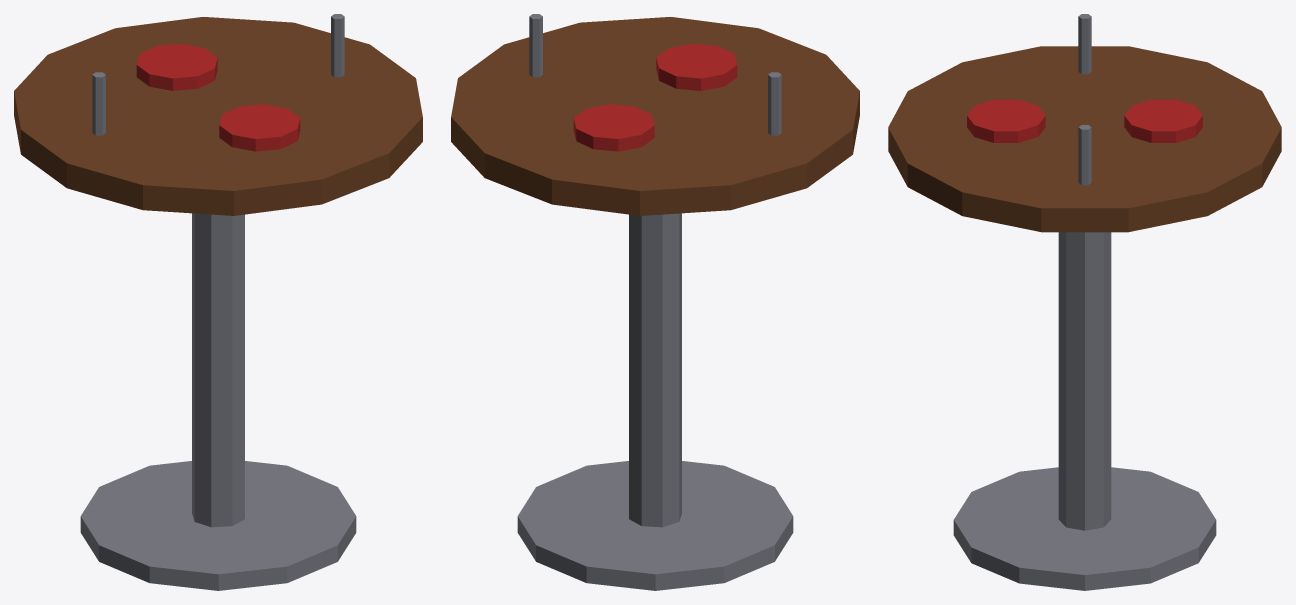
Rendered from arm_table.glb.
The picture shows the model from 3 angles, left to right: view 1: azimuth 30°, elevation 25°; view 2: azimuth 150°, elevation 25°; view 3: azimuth 270°, elevation 25°; orthographic projection. The views are drawn at different scales.
Parts seen in each view (by area): view 1: top_arm_wood, leg_arm_steel, pads_arm_pad, grips_arm_steel; view 2: top_arm_wood, leg_arm_steel, pads_arm_pad, grips_arm_steel; view 3: top_arm_wood, leg_arm_steel, pads_arm_pad, grips_arm_steel.
Boxes of the visible parts, <box> form: top_arm_wood: <box>14,17,422,215</box>; leg_arm_steel: <box>80,213,356,590</box>; pads_arm_pad: <box>136,43,300,151</box>; grips_arm_steel: <box>92,14,344,135</box>; top_arm_wood: <box>451,17,859,215</box>; leg_arm_steel: <box>517,213,793,590</box>; pads_arm_pad: <box>573,43,737,151</box>; grips_arm_steel: <box>529,14,781,135</box>; top_arm_wood: <box>888,46,1281,232</box>; leg_arm_steel: <box>953,232,1216,590</box>; pads_arm_pad: <box>967,99,1202,142</box>; grips_arm_steel: <box>1078,14,1091,185</box>.
Size of the model in its own units: 0.8774 by 1.17 by 0.9.
